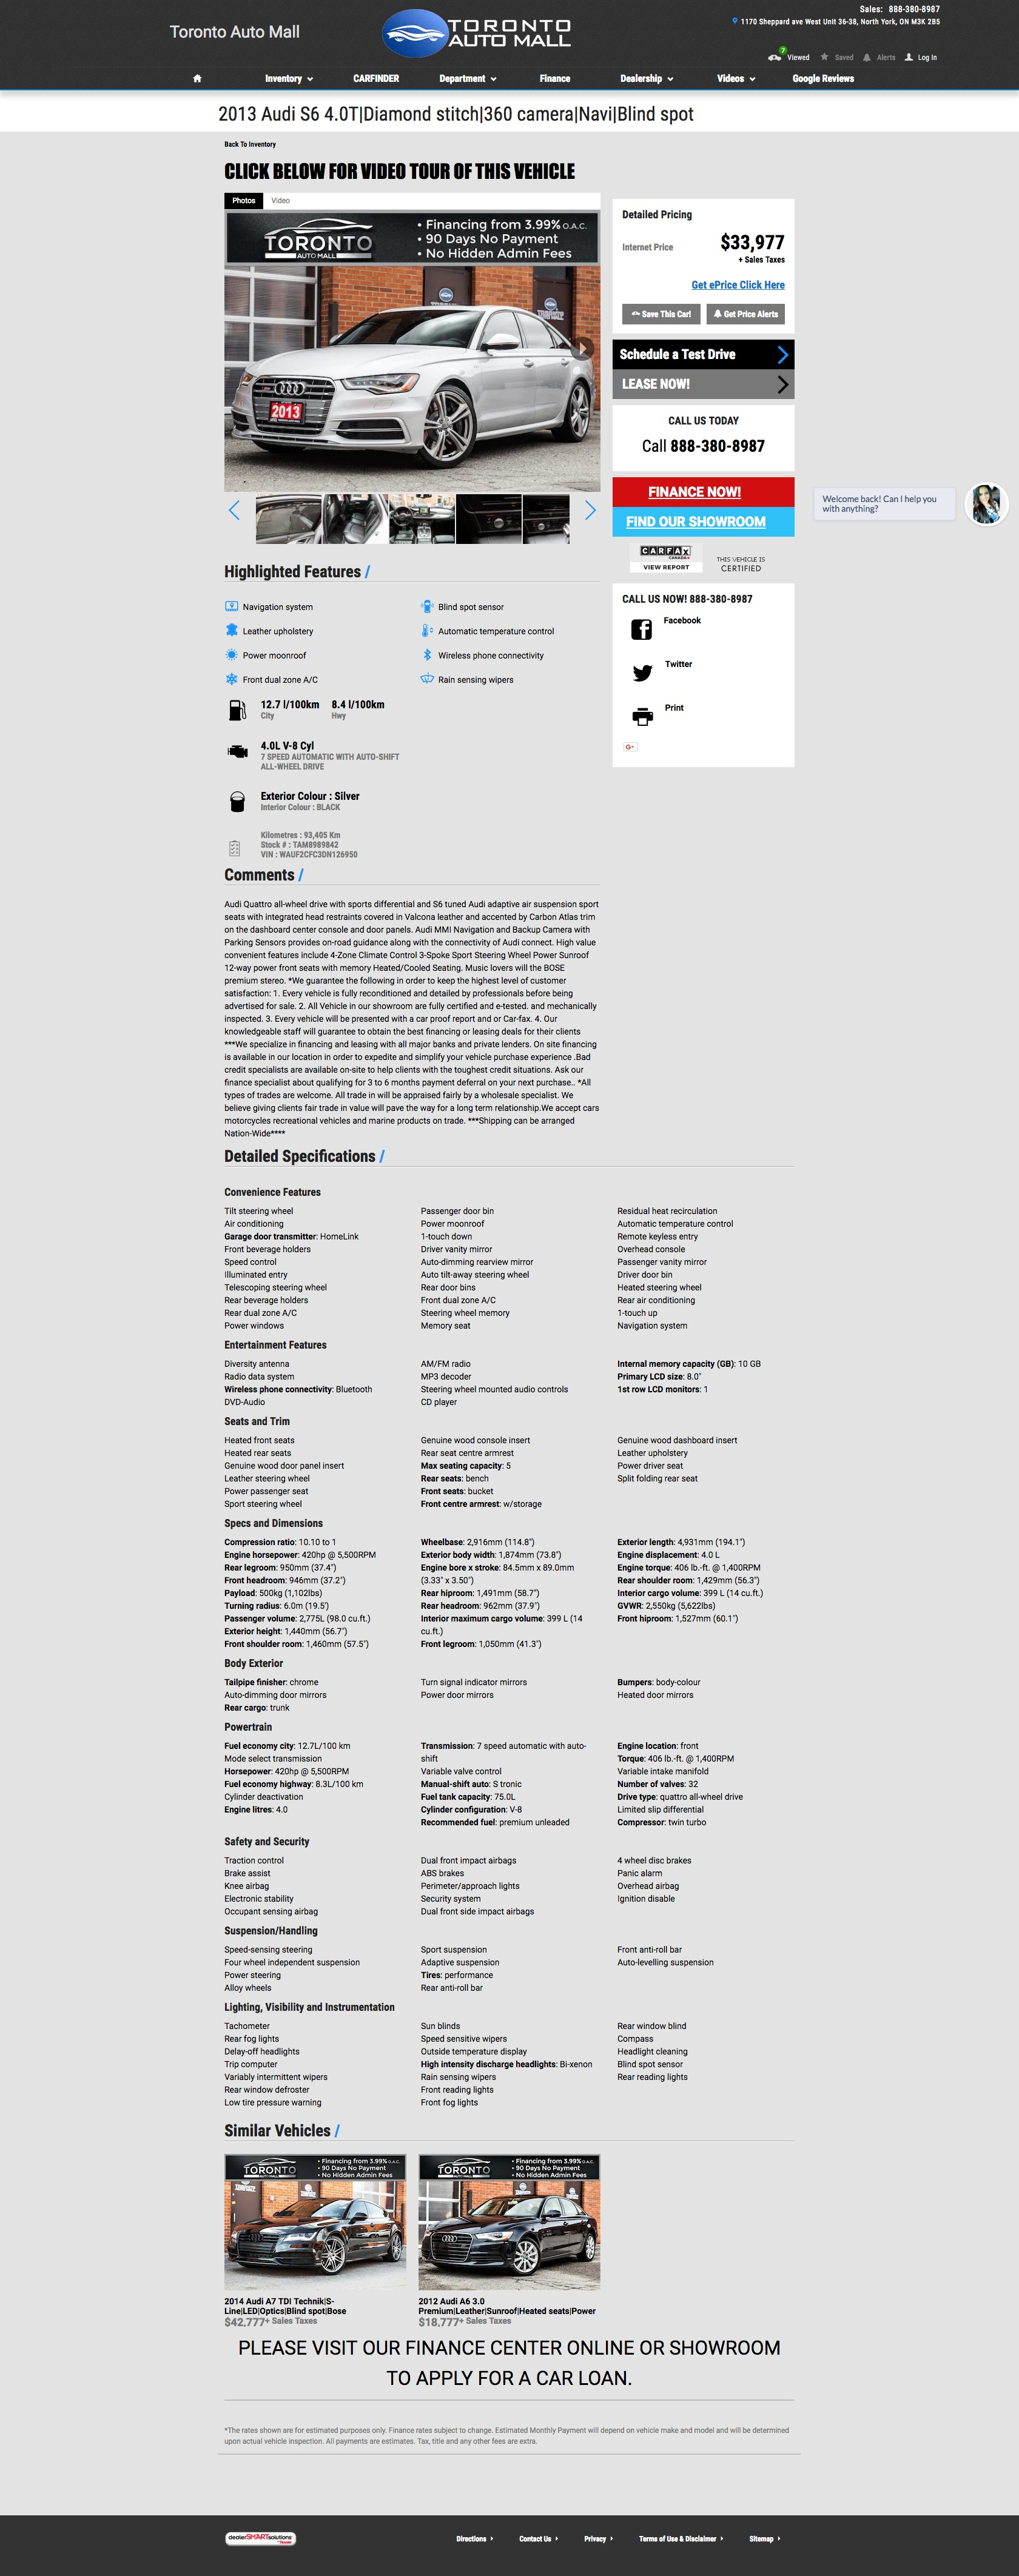car: (585, 501, 597, 521)
